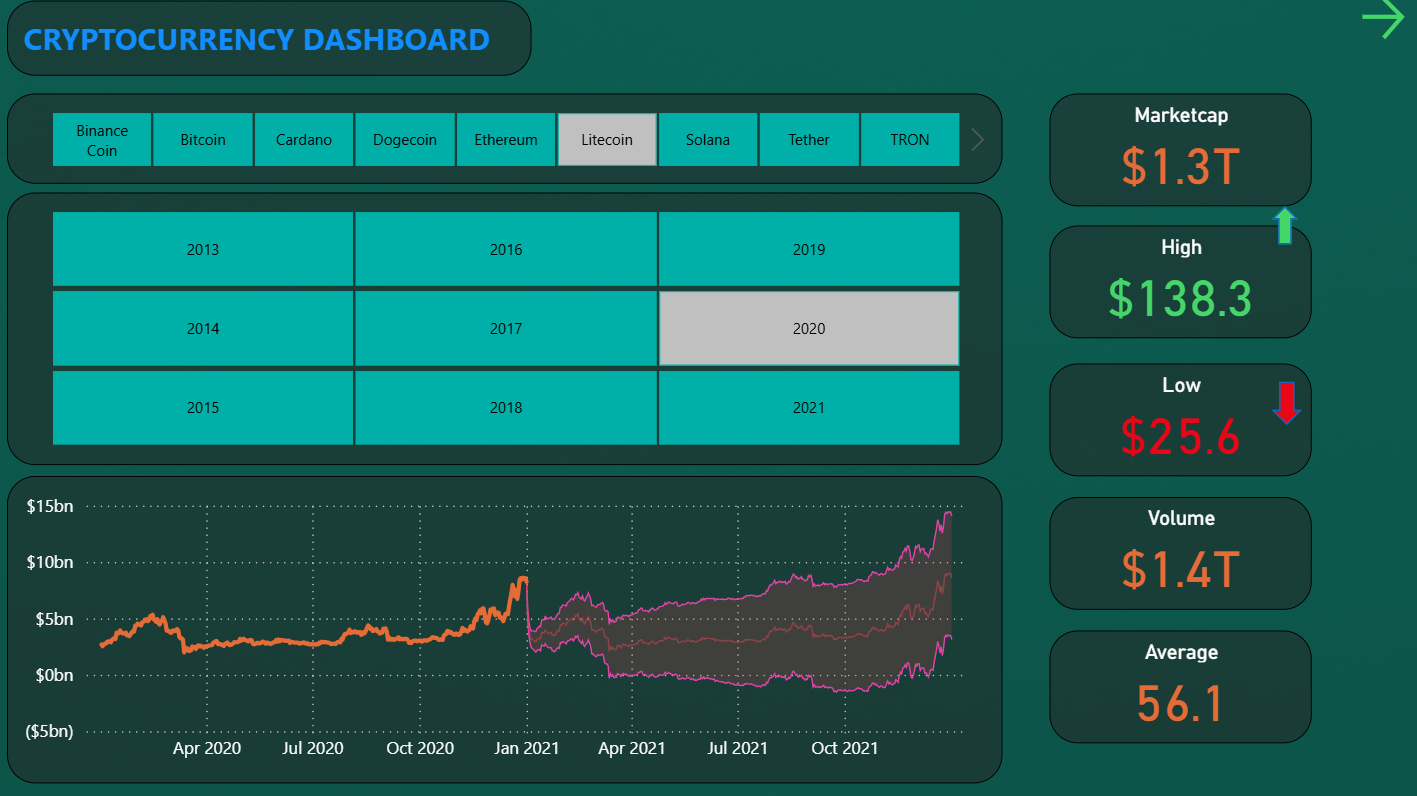

This screenshot's page, from the dashboard's own definition file:
{"tool":"powerbi","page":{"name":"Page 1","canvas":[1280,720],"ordinal":0},"visuals":[{"type":"slicer","fields":{"Values":["CryptoData.Name"]},"box":[8,73,706,64],"z":0},{"type":"slicer","fields":{"Values":["CryptoData.YEAR"]},"box":[8,144,706,193],"z":1000},{"type":"lineChart","title":" Marketcap by Date","fields":{"Y":["Sum(CryptoData.Marketcap)"],"Category":["CryptoData.Date"]},"box":[8,345,706,218],"z":2000},{"type":"actionButton","box":[964,0,45,40],"z":3000},{"type":"textbox","box":[8,7,372,53],"z":4000},{"type":"card","title":"Marketcap","fields":{"Values":["Sum(CryptoData.Marketcap)"]},"box":[748,73,186,80],"z":5000},{"type":"card","title":"Volume","fields":{"Values":["Sum(CryptoData.Volume)"]},"box":[748,360,186,80],"z":6000},{"type":"card","title":"Low","fields":{"Values":["Min(CryptoData.Low)"]},"box":[748,265,186,80],"z":7000},{"type":"card","title":"Average","fields":{"Values":["Avg(CryptoData.Average)"]},"box":[748,454,186,80],"z":8000},{"type":"card","title":"High","fields":{"Values":["Max(CryptoData.High)"]},"box":[748,167,186,80],"z":9000},{"type":"shape","box":[905.5,153.6,19.1,27.3],"z":10000},{"type":"shape","box":[905.5,277.3,21.8,30.9],"z":11000}]}

Visuals, with their boxes in screenshot pixels (x1, y1, x2, y2), scaled from the page's 1280x720 canvas onto the 1417x796 screenshot:
slicer - CryptoData.Name: {"left": 9, "top": 81, "right": 790, "bottom": 151}
slicer - CryptoData.YEAR: {"left": 9, "top": 159, "right": 790, "bottom": 373}
" Marketcap by Date" lineChart: {"left": 9, "top": 381, "right": 790, "bottom": 622}
actionButton: {"left": 1067, "top": 0, "right": 1117, "bottom": 44}
textbox: {"left": 9, "top": 8, "right": 421, "bottom": 66}
"Marketcap" card: {"left": 828, "top": 81, "right": 1034, "bottom": 169}
"Volume" card: {"left": 828, "top": 398, "right": 1034, "bottom": 486}
"Low" card: {"left": 828, "top": 293, "right": 1034, "bottom": 381}
"Average" card: {"left": 828, "top": 502, "right": 1034, "bottom": 590}
"High" card: {"left": 828, "top": 185, "right": 1034, "bottom": 273}
shape: {"left": 1002, "top": 170, "right": 1024, "bottom": 200}
shape: {"left": 1002, "top": 307, "right": 1027, "bottom": 341}
